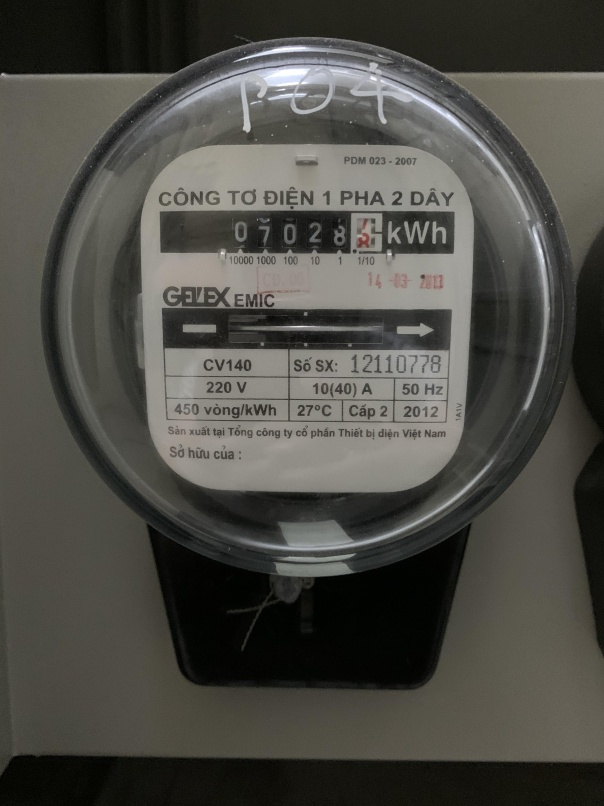counter: (156, 209, 455, 255)
electricity_meter: (46, 37, 572, 581)
